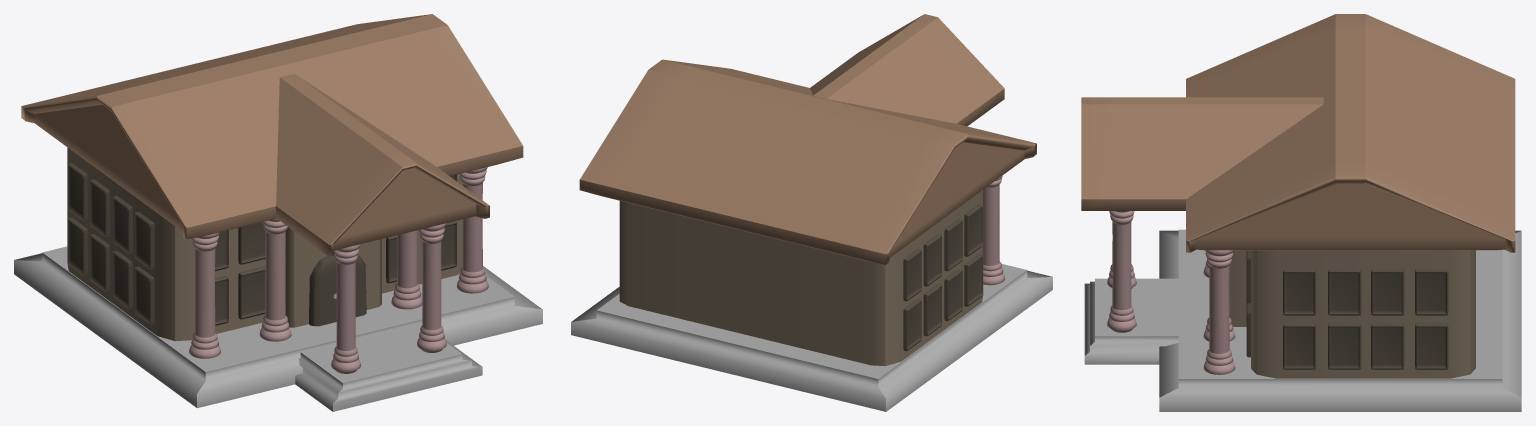
File: BankNew_CM.fbx
The picture shows the model from 3 angles, left to right: view 1: azimuth 30°, elevation 25°; view 2: azimuth 150°, elevation 25°; view 3: azimuth 270°, elevation 25°; orthographic projection. The views are drawn at different scales.
Parts seen in each view (by area): view 1: polySurface119, polySurface134, polySurface135, polySurface127, polySurface133; view 2: polySurface119, polySurface133, polySurface134, polySurface135, polySurface127; view 3: polySurface119, polySurface134, polySurface133, polySurface135, polySurface127.
Boxes of the visible parts, box(x1,y1,x2,y2) form: polySurface119: box(21, 14, 523, 256); polySurface134: box(14, 246, 542, 411); polySurface135: box(68, 163, 456, 326); polySurface127: box(189, 167, 488, 373); polySurface133: box(67, 147, 462, 341); polySurface119: box(579, 14, 1036, 264); polySurface133: box(619, 190, 983, 366); polySurface134: box(571, 264, 1052, 411); polySurface135: box(903, 204, 982, 351); polySurface127: box(983, 175, 1004, 285); polySurface119: box(1081, 14, 1515, 252); polySurface134: box(1084, 229, 1521, 411); polySurface133: box(1229, 250, 1475, 378); polySurface135: box(1246, 250, 1448, 369); polySurface127: box(1107, 211, 1235, 374).
Size of the model in its own units: 3.66 by 2.38 by 4.08.
